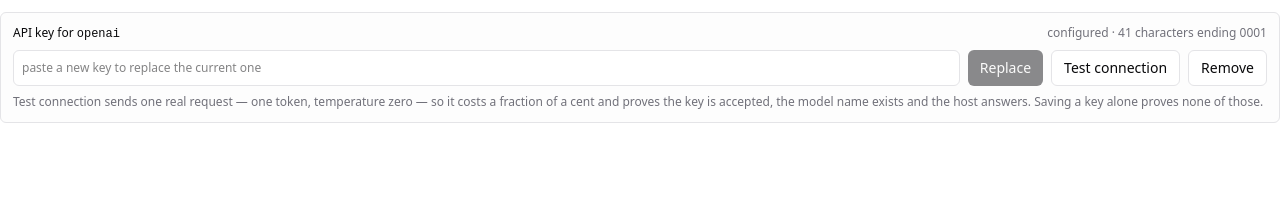
Test: testing the connection for real › names the model that actually answered when the server substituted one
Click the button with test id "cred-test-openai". click: coordinates (1116, 68)
box: [1051,50,1180,86]
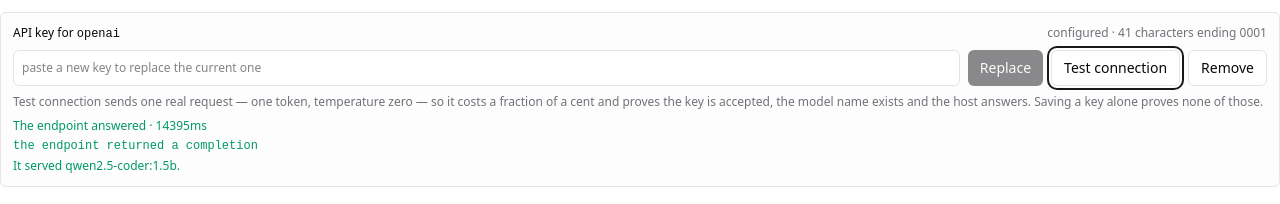
Check: the element with test id "cred-test-result-openai" shows "It served qwen2.5-coder:1.5b", box [13,117,258,174]
